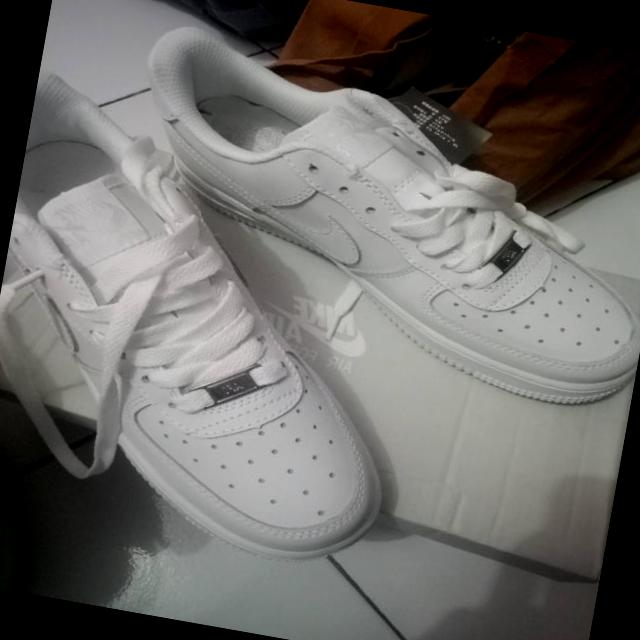nike_fake_airforce: (8, 1, 640, 416), (0, 64, 447, 575)
